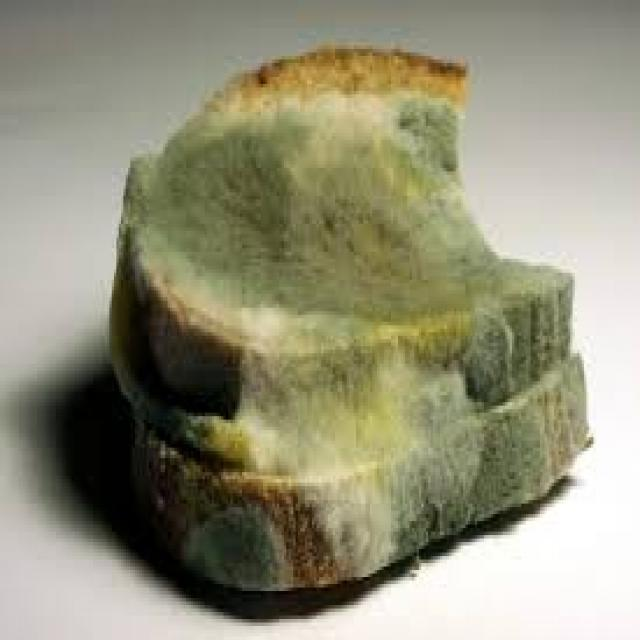organic waste: (107, 42, 573, 483), (124, 346, 586, 591)
